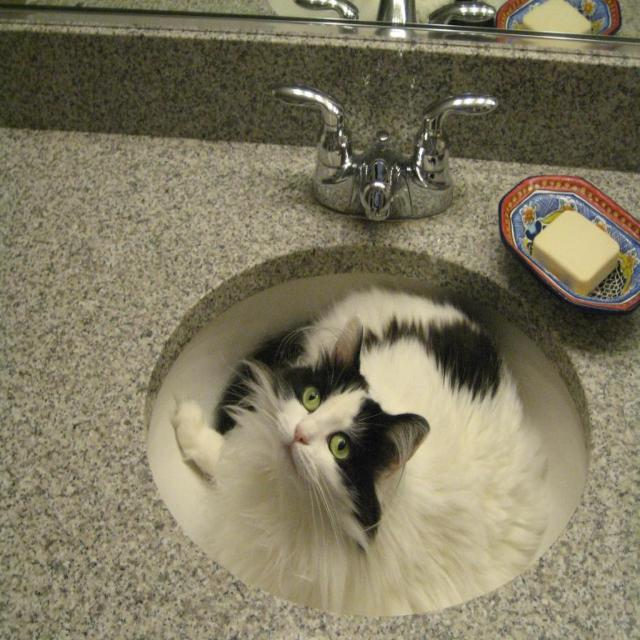Cat: (168, 282, 548, 615)
